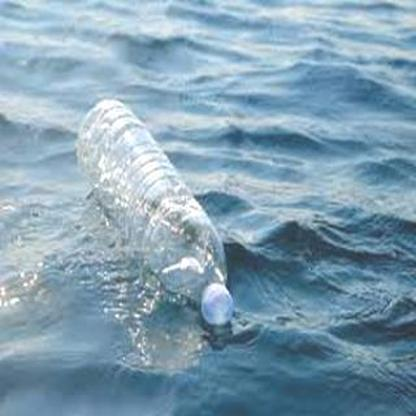plastic bottle: (74, 98, 235, 326)
